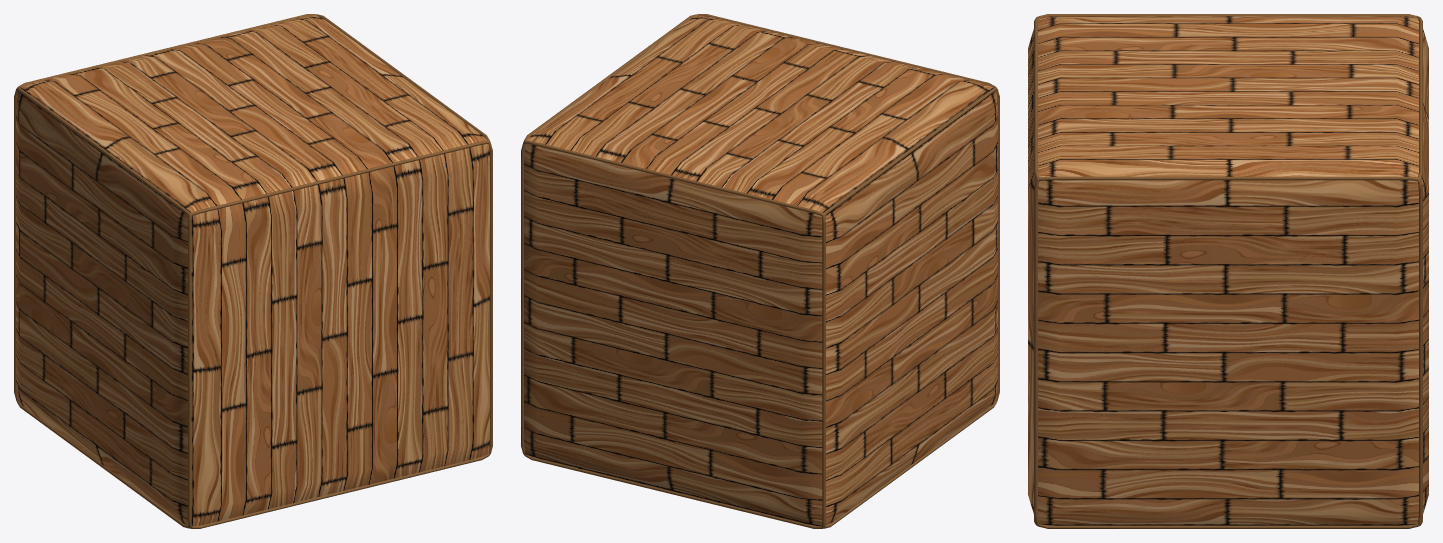
Rendered from SM_SoftFoam_Wall_Box_1x1x1M.fbx.
3 views of the same model, side by side, from view 1: azimuth 30°, elevation 25°; view 2: azimuth 150°, elevation 25°; view 3: azimuth 270°, elevation 25° (orthographic). The views are drawn at different scales.
Parts seen in each view (by area): view 1: SM_SoftFoam_1x1x1_Box; view 2: SM_SoftFoam_1x1x1_Box; view 3: SM_SoftFoam_1x1x1_Box.
Part boxes in pixels (x1,y1,x2,y2): SM_SoftFoam_1x1x1_Box: [14, 14, 492, 528]; SM_SoftFoam_1x1x1_Box: [521, 14, 999, 528]; SM_SoftFoam_1x1x1_Box: [1028, 14, 1428, 528].
Bounding box in the file's own units: 100 × 100 × 100.
